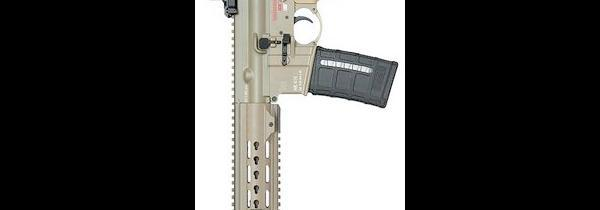gun: (202, 0, 401, 210)
